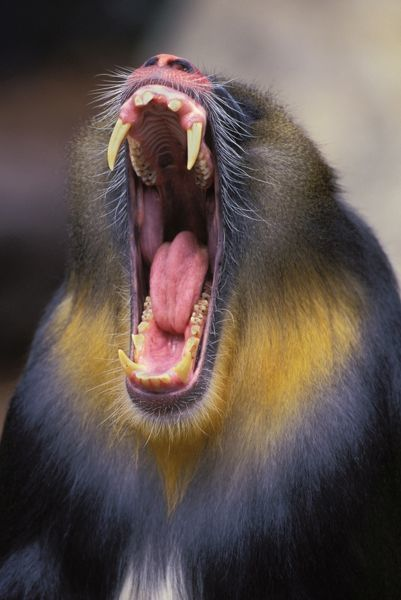Mandrill: (45, 40, 365, 532)
